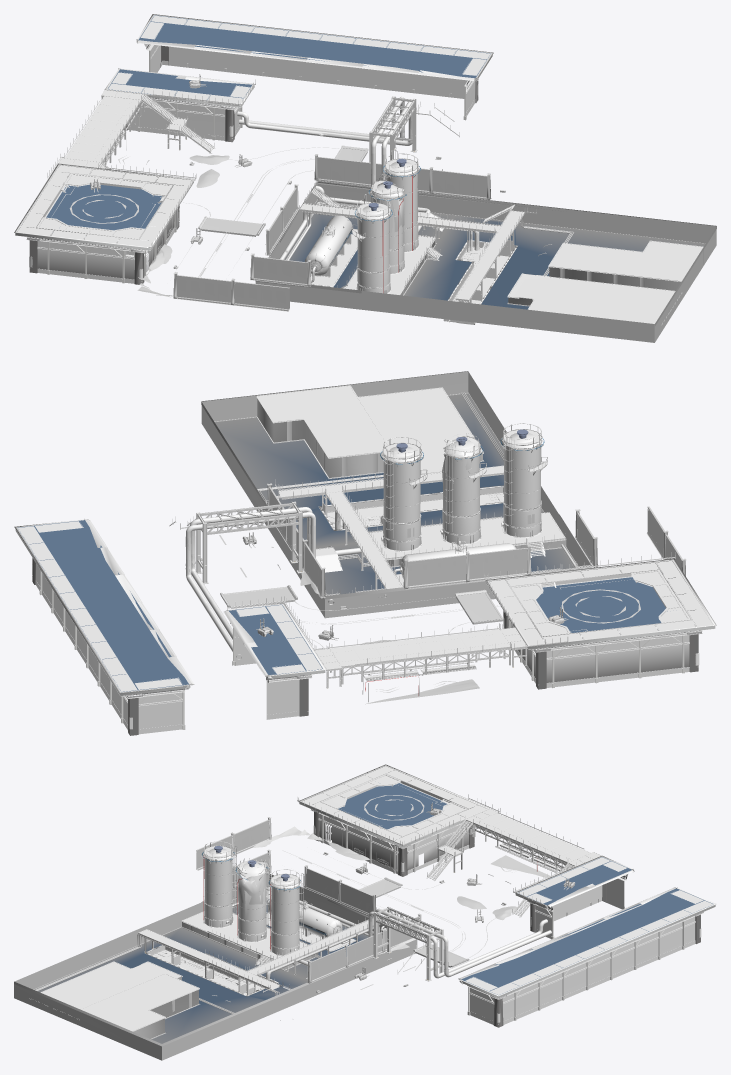
Rendered from cell_82_52.fbx.
3 renders of one model, top to bottom at view 1: azimuth 30°, elevation 25°; view 2: azimuth 150°, elevation 25°; view 3: azimuth 270°, elevation 25°, orthographic. The views are drawn at different scales.
Visible parts, largest first — view 1: SM_I_RoadFacility_Ground_L_04H.mo, SM_I_RoadFacility_Ground_L_12C.mo, SM_I_RoadFacility_Ground_L_11.mo, SM_I_RoadFacility_Ground_L_08.mo, SM_H_Industrial_Mechanical_MetalSilo_03c.mo.001, SM_H_WalkwaySystem_MetalSupport_25.mo, SM_I_RoadFacility_Ground_L_17b_Ruin.mo, SM_H_Industrial_Mechanical_MetalSilo_03c.mo, SM_H_Industrial_Mechanical_MetalSilo_02c.mo, SM_H_Industrial_Mechanical_MetalSilo_03_Ruin_a.mo, SM_H_WalkwaySystem_MetalSupport_18.mo, SM_H_Fence_SoundproofWall_02.mo.020 (+8 smaller); view 2: SM_I_RoadFacility_Ground_L_04H.mo, SM_I_RoadFacility_Ground_L_12C.mo, SM_I_RoadFacility_Ground_L_11.mo, SM_H_WalkwaySystem_MetalSupport_25.mo, SM_H_Industrial_Mechanical_MetalSilo_03c.mo, SM_H_Industrial_Mechanical_MetalSilo_03c.mo.001, SM_H_Industrial_Mechanical_MetalSilo_03_Ruin_a.mo, SM_I_RoadFacility_Ground_L_08.mo, SM_I_RoadFacility_Ground_L_17b_Ruin.mo, SM_H_WalkwaySystem_MetalSupport_04.mo, SM_H_Fence_SoundproofWall_02.mo.016, SM_H_Fence_SoundproofWall_02.mo.017 (+10 smaller); view 3: SM_I_RoadFacility_Ground_L_04H.mo, SM_I_RoadFacility_Ground_L_12C.mo, SM_I_RoadFacility_Ground_L_11.mo, SM_I_RoadFacility_Ground_L_08.mo, SM_H_Industrial_Mechanical_MetalSilo_03c.mo.001, SM_H_WalkwaySystem_MetalSupport_25.mo, SM_H_Industrial_Mechanical_MetalSilo_03c.mo, SM_H_Industrial_Mechanical_MetalSilo_03_Ruin_a.mo, SM_I_RoadFacility_Ground_L_17b_Ruin.mo, SM_H_WalkwaySystem_MetalSupport_04.mo, SM_H_WalkwaySystem_MetalSupport_18.mo, SM_H_Industrial_Mechanical_MetalSilo_02c.mo (+9 smaller).
Part boxes in pixels (x1,y1,x2,y2): SM_I_RoadFacility_Ground_L_04H.mo: (255, 180, 716, 342); SM_I_RoadFacility_Ground_L_12C.mo: (104, 14, 493, 142); SM_I_RoadFacility_Ground_L_11.mo: (14, 163, 194, 284); SM_I_RoadFacility_Ground_L_08.mo: (299, 204, 525, 303); SM_H_Industrial_Mechanical_MetalSilo_03c.mo.001: (352, 194, 392, 293); SM_H_WalkwaySystem_MetalSupport_25.mo: (65, 96, 140, 168); SM_I_RoadFacility_Ground_L_17b_Ruin.mo: (237, 96, 430, 232); SM_H_Industrial_Mechanical_MetalSilo_03c.mo: (380, 150, 421, 252); SM_H_Industrial_Mechanical_MetalSilo_02c.mo: (304, 215, 352, 277); SM_H_Industrial_Mechanical_MetalSilo_03_Ruin_a.mo: (368, 173, 406, 274); SM_H_WalkwaySystem_MetalSupport_18.mo: (58, 90, 214, 169); SM_H_Fence_SoundproofWall_02.mo.020: (231, 278, 289, 311); SM_I_RoadFacility_Ground_L_04H.mo: (201, 371, 592, 618); SM_I_RoadFacility_Ground_L_12C.mo: (14, 519, 326, 735); SM_I_RoadFacility_Ground_L_11.mo: (486, 558, 716, 689); SM_H_WalkwaySystem_MetalSupport_25.mo: (330, 629, 510, 684); SM_H_Industrial_Mechanical_MetalSilo_03c.mo: (380, 437, 427, 551); SM_H_Industrial_Mechanical_MetalSilo_03c.mo.001: (500, 423, 547, 538); SM_H_Industrial_Mechanical_MetalSilo_03_Ruin_a.mo: (440, 433, 486, 545); SM_I_RoadFacility_Ground_L_08.mo: (278, 465, 503, 589); SM_I_RoadFacility_Ground_L_17b_Ruin.mo: (185, 507, 386, 659); SM_H_WalkwaySystem_MetalSupport_04.mo: (196, 501, 304, 584); SM_H_Fence_SoundproofWall_02.mo.016: (403, 554, 466, 589); SM_H_Fence_SoundproofWall_02.mo.017: (465, 547, 527, 582); SM_I_RoadFacility_Ground_L_04H.mo: (14, 873, 417, 1060); SM_I_RoadFacility_Ground_L_12C.mo: (458, 855, 716, 1027); SM_I_RoadFacility_Ground_L_11.mo: (299, 764, 489, 876); SM_I_RoadFacility_Ground_L_08.mo: (138, 918, 380, 995); SM_H_Industrial_Mechanical_MetalSilo_03c.mo.001: (201, 841, 236, 928); SM_H_WalkwaySystem_MetalSupport_25.mo: (473, 813, 590, 871); SM_H_Industrial_Mechanical_MetalSilo_03c.mo: (268, 869, 303, 956); SM_H_Industrial_Mechanical_MetalSilo_03_Ruin_a.mo: (235, 858, 270, 942); SM_I_RoadFacility_Ground_L_17b_Ruin.mo: (298, 908, 551, 978); SM_H_WalkwaySystem_MetalSupport_04.mo: (372, 906, 443, 981); SM_H_WalkwaySystem_MetalSupport_18.mo: (427, 808, 601, 917); SM_H_Industrial_Mechanical_MetalSilo_02c.mo: (268, 900, 342, 938).
Bounding box in the file's own units: 123 × 23.61 × 149.
